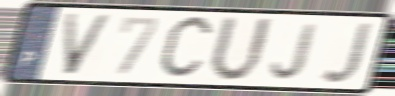7: (117, 14, 162, 78)
C: (155, 12, 218, 84)
J: (319, 21, 376, 86), (269, 21, 321, 81)
U: (206, 13, 276, 85)
V: (61, 11, 115, 77)
